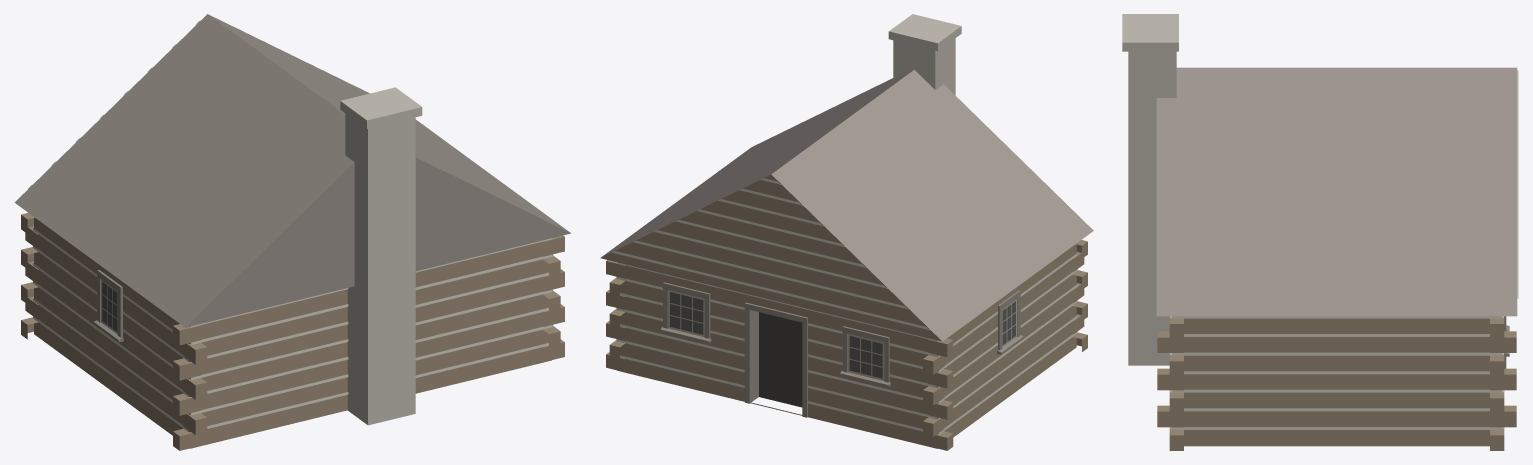
The model's file is chappel_infant_school__log_1833.glb.
3 renders of one model, left to right at view 1: azimuth 30°, elevation 25°; view 2: azimuth 150°, elevation 25°; view 3: azimuth 270°, elevation 25°, orthographic. The views are drawn at different scales.
Visible parts, largest first — view 1: chappel_infant_school__log_1833; view 2: chappel_infant_school__log_1833; view 3: chappel_infant_school__log_1833.
Boxes of the visible parts, <box> form: chappel_infant_school__log_1833: <box>14,14,571,450</box>; chappel_infant_school__log_1833: <box>600,14,1093,450</box>; chappel_infant_school__log_1833: <box>1122,14,1518,450</box>.
Bounding box in the file's own units: 7.82 × 5.96 × 6.58.
